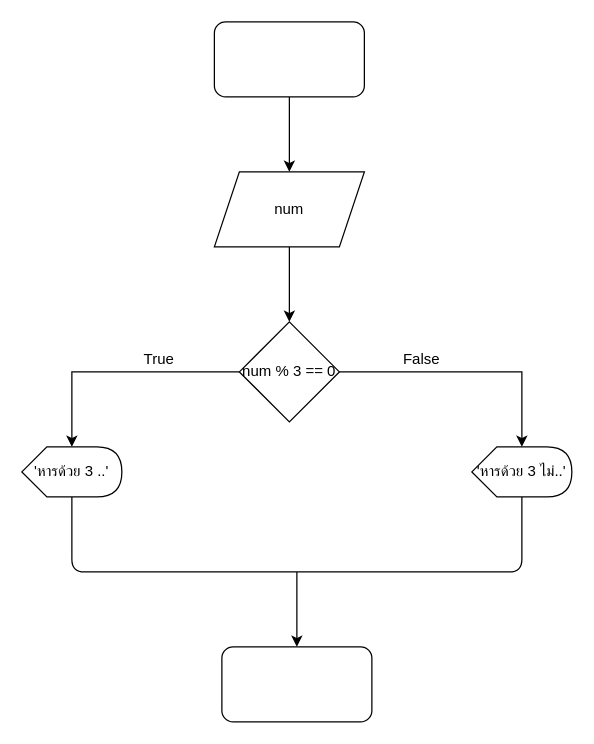
This 594x744 diagram has some shape labels left out. The centre of each missing label's shape, as x and y in pixels:
"End" goes at point (296, 684).
"start" goes at point (288, 59).
